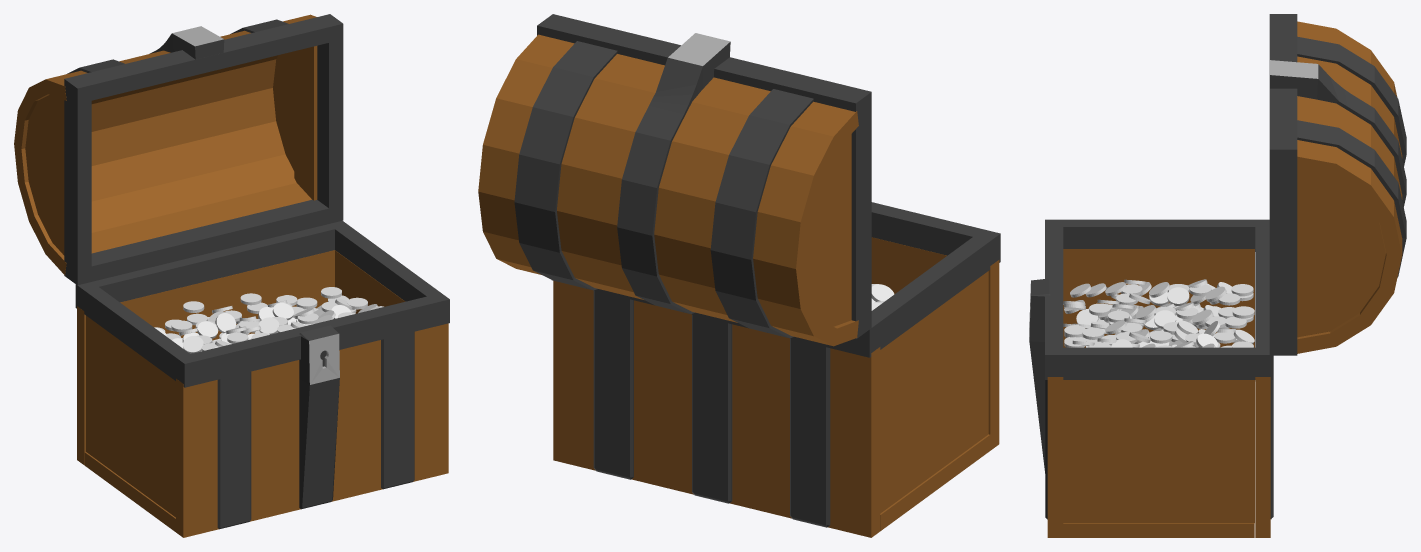
Rendered from cofreF.fbx.
The picture shows the model from 3 angles, left to right: view 1: azimuth 30°, elevation 25°; view 2: azimuth 150°, elevation 25°; view 3: azimuth 270°, elevation 25°; orthographic projection. The views are drawn at different scales.
Visible parts, largest first — view 1: Cube.008, Cube.002; view 2: Cube.002, Cube.008; view 3: Cube.008, Cube.002.
Boxes of the visible parts, x1,y1,x2,y2 form: Cube.008: (75, 220, 449, 537); Cube.002: (14, 14, 343, 285); Cube.002: (478, 14, 871, 346); Cube.008: (552, 202, 1000, 537); Cube.008: (1029, 219, 1273, 537); Cube.002: (1269, 14, 1406, 355).
Bounding box in the file's own units: 361 × 500 × 424.
